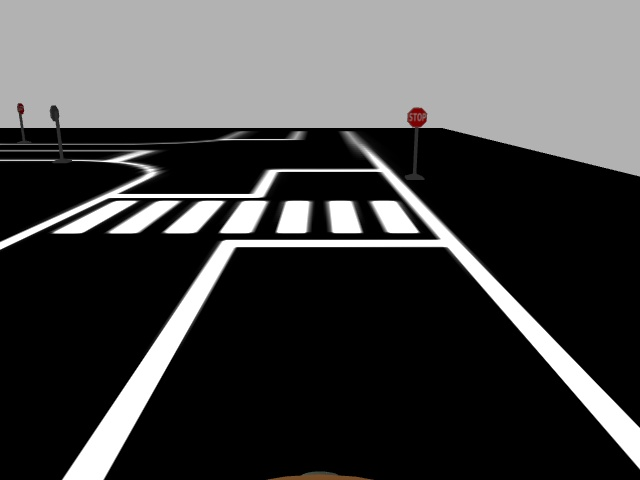stop: (406, 106, 429, 128)
